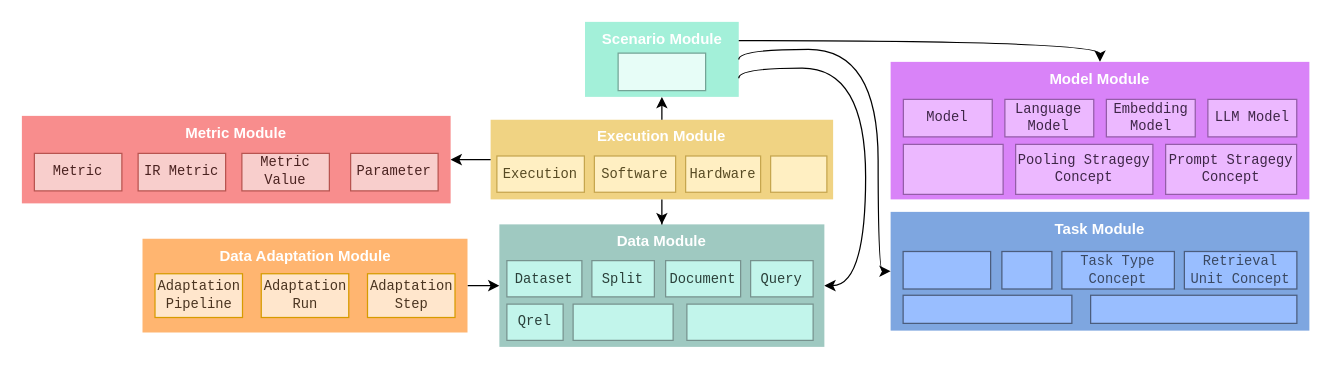
The diagram is 1330 pixels wide and 368 high, and some of its shapes have lost their labels. The shapes that lost their labels are listed below. From the top down, each one's centre as x and y in pixels, then its label:
At [661,71]: "Scenario".
At [798,173]: "Result".
At [952,168]: "LLM Embedding Model".
At [946,269]: "Scenario Task".
At [1026,269]: "Task".
At [622,321]: "Language Concept".
At [749,321]: "Language Mode Concept".
At [987,308]: "Query Form Concept".
At [1193,308]: "Judgement Scale Concept".
